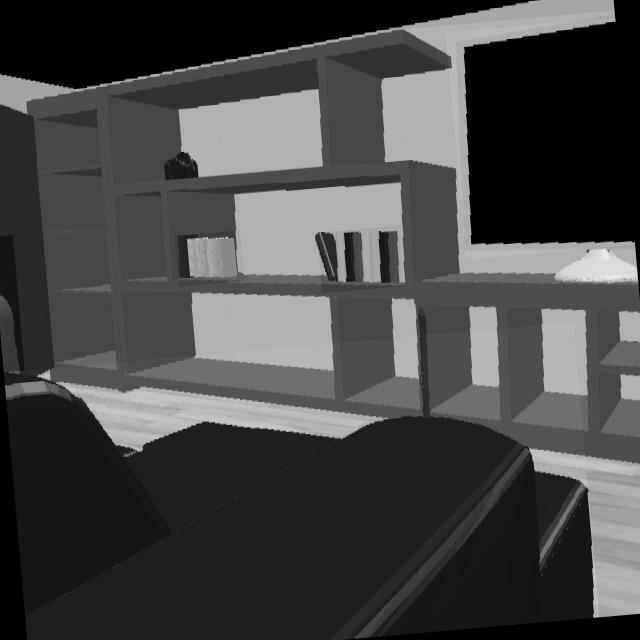book: (317, 227, 405, 287), (179, 236, 243, 284)
bookshelf: (0, 28, 640, 464)
monitor: (454, 17, 635, 249)
person: (0, 290, 23, 375)
sofa: (3, 372, 595, 640)
